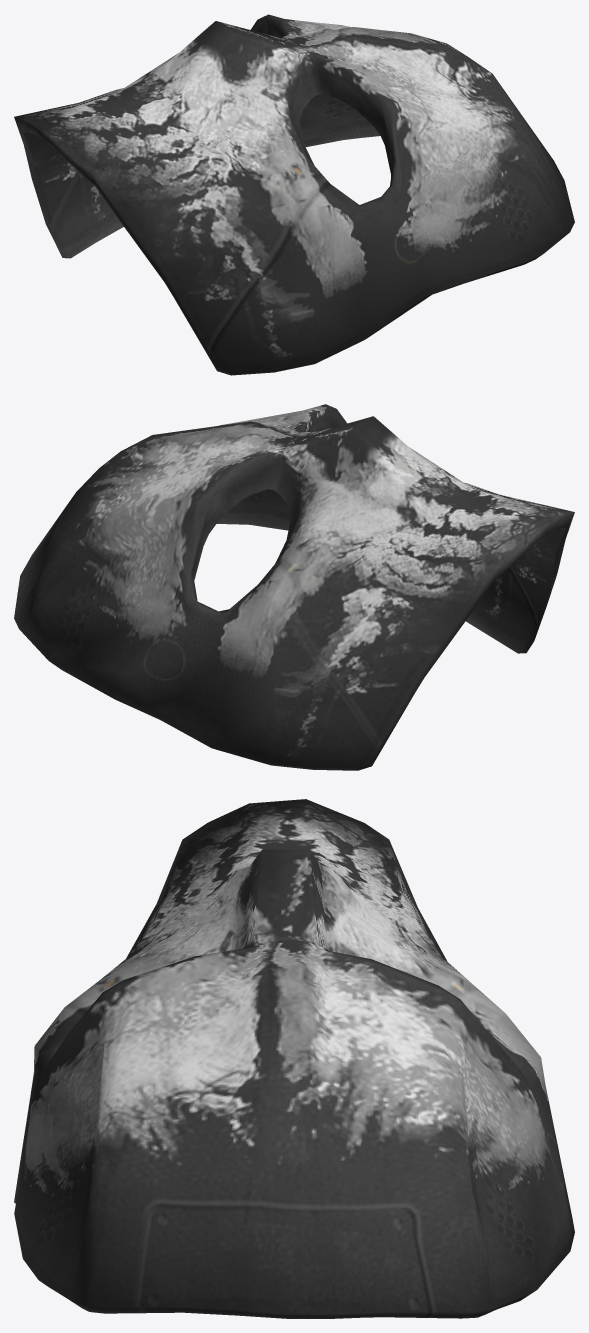
Rendered from GunRunnersBallisticMask_Ground.fbx.
The picture shows the model from 3 angles, top to bottom: view 1: azimuth 30°, elevation 25°; view 2: azimuth 150°, elevation 25°; view 3: azimuth 270°, elevation 25°; orthographic projection. The views are drawn at different scales.
Visible parts, largest first — view 1: Mask; view 2: Mask; view 3: Mask.
Part boxes in pixels (x1,y1,x2,y2): Mask: (14,14,574,375); Mask: (14,404,574,770); Mask: (14,799,574,1318).
Bounding box in the file's own units: 0.1359 × 0.0704 × 0.0991.
